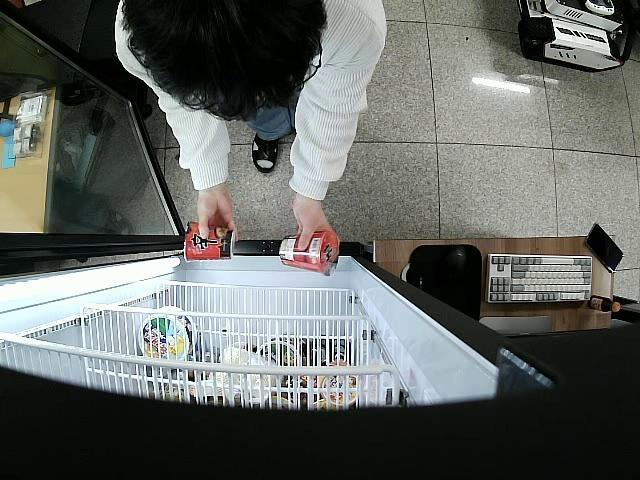02_shinRamen_S: (278, 232, 339, 276), (180, 221, 236, 260)
